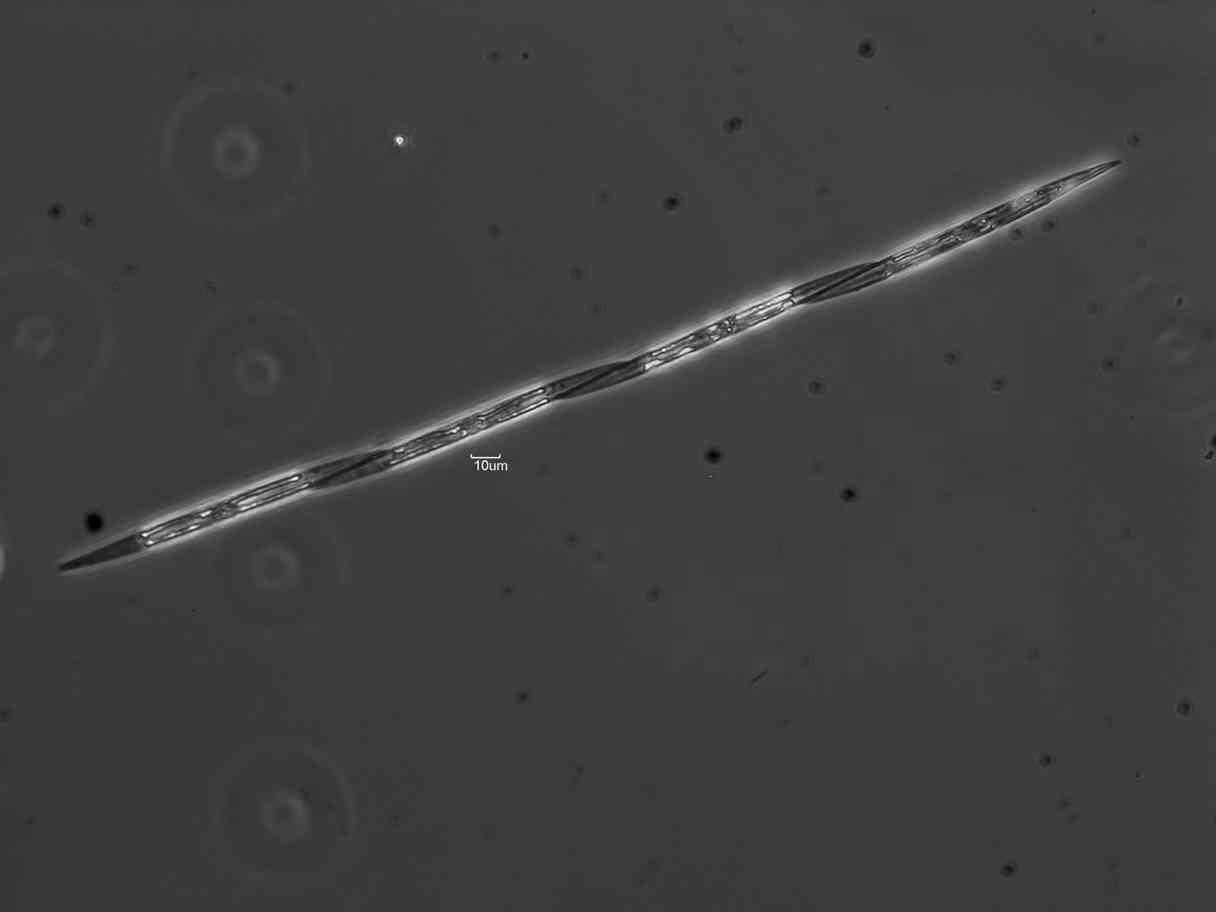pseudo_nitzschia: (39, 156, 1130, 578)
